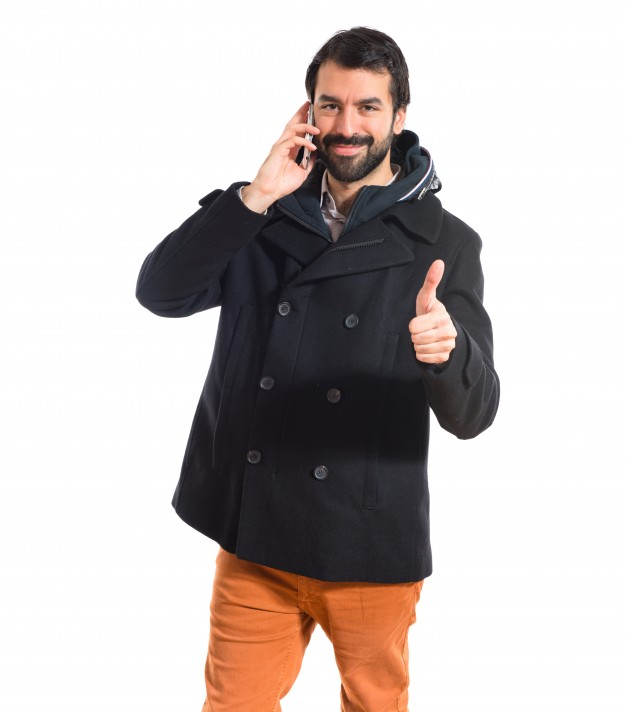thumbsup: (408, 259, 457, 364)
